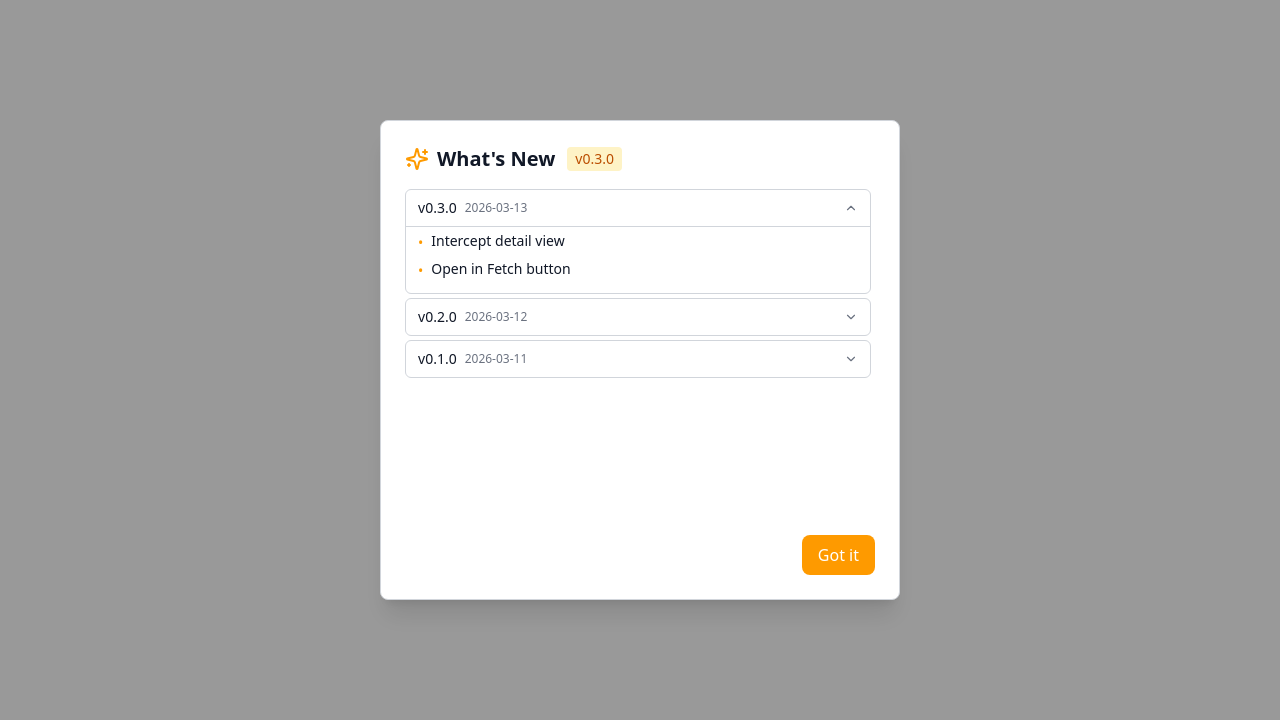
Scenario: WhatsNewModal › expands another version when its header is clicked
Step 1. Click the button "v0.2.0 2026-03-12" → (441, 316), box [406,299,870,335]
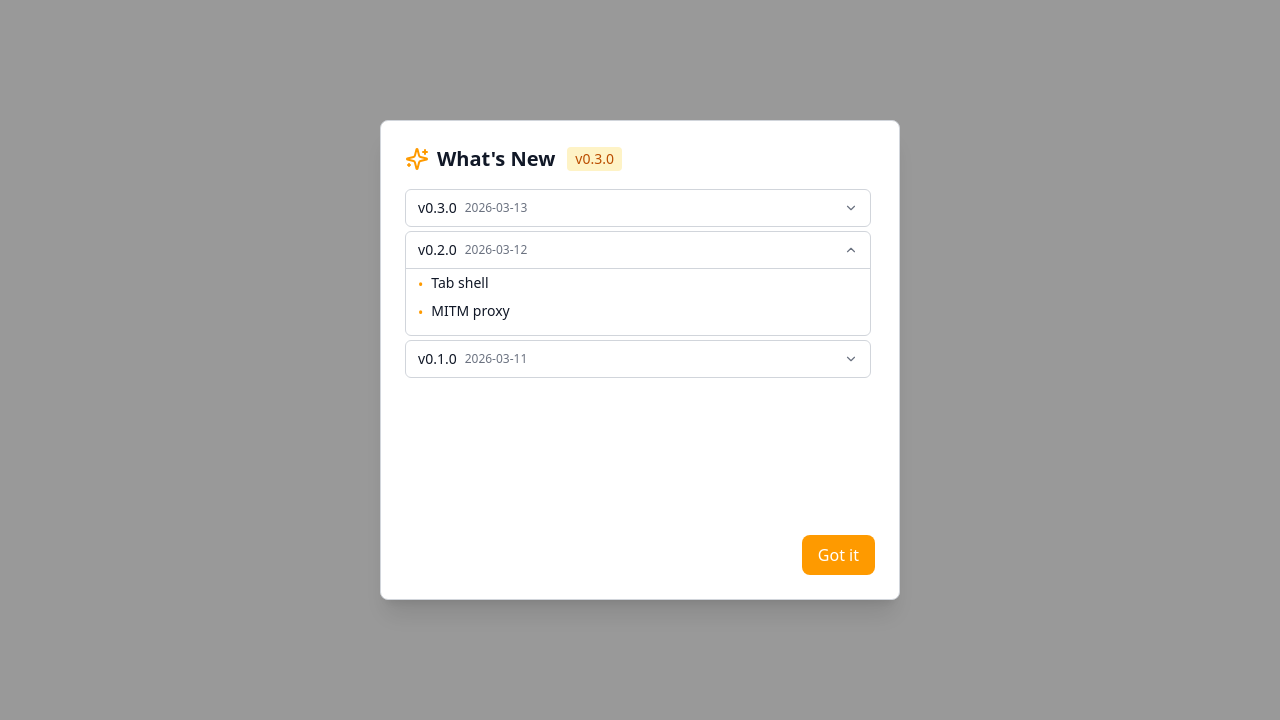
Check: the text "Tab shell" is shown, box [431,273,489,293]
